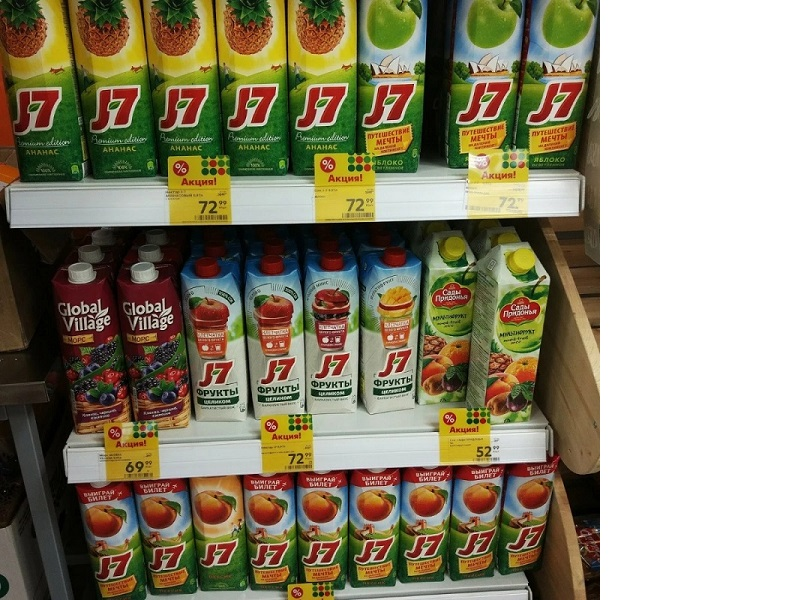juice: (67, 1, 169, 176), (506, 1, 606, 176), (1, 1, 92, 191), (48, 265, 142, 443), (352, 1, 441, 180), (471, 242, 554, 430), (280, 1, 366, 180), (144, 1, 228, 180), (441, 1, 527, 174), (216, 1, 295, 179), (118, 264, 196, 433), (241, 256, 317, 429), (182, 261, 256, 429), (299, 252, 367, 421), (416, 230, 480, 408), (358, 246, 420, 416), (395, 460, 457, 587), (190, 472, 255, 592), (346, 466, 404, 592), (298, 468, 354, 595), (248, 472, 303, 592)
